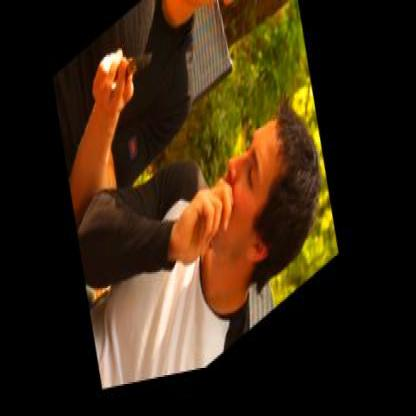knife: (94, 13, 167, 132)
